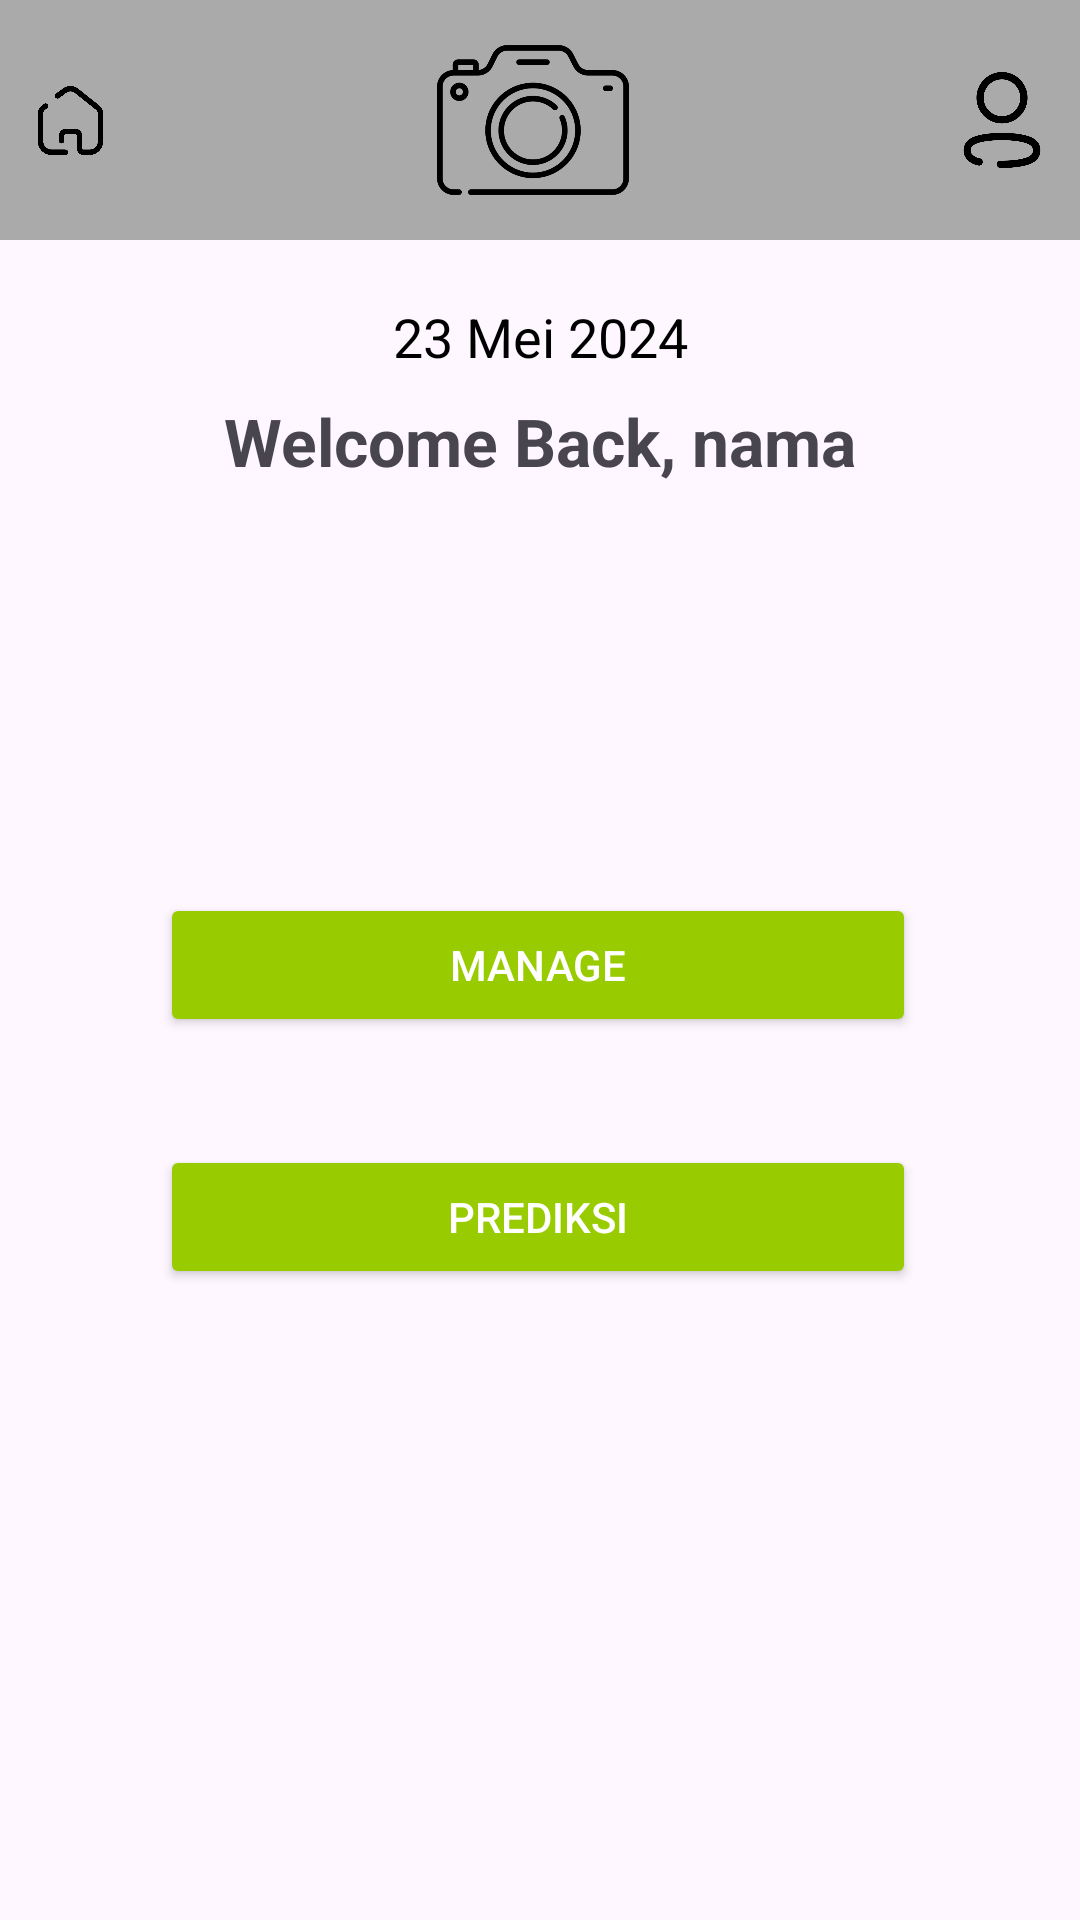

Where icons sit on this 1080px×1920px app screen, as [x1, y1, x2, y2]:
camera: [437, 45, 629, 195]
homeagreement: [38, 86, 103, 155]
profilecandidate: [964, 72, 1040, 168]
